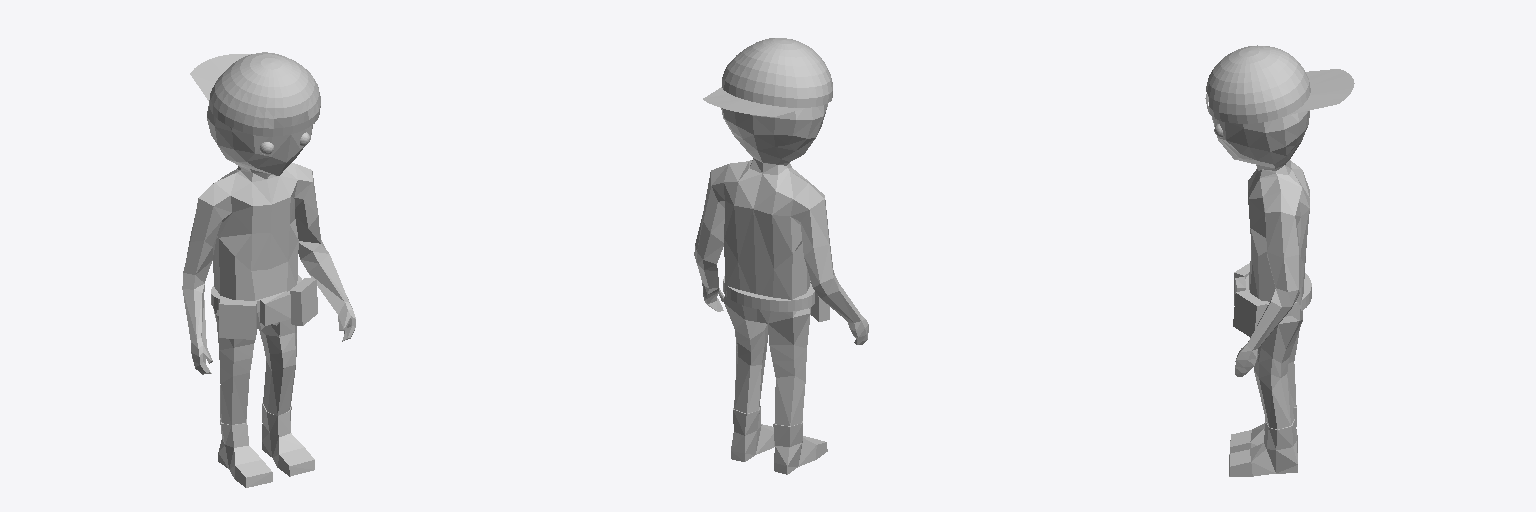
File: Main_Character_Pickup_Paint_2.obj
The picture shows the model from 3 angles: view 1: azimuth 30°, elevation 25°; view 2: azimuth 150°, elevation 25°; view 3: azimuth 270°, elevation 25°; orthographic projection.
Visible parts, largest first — view 1: Main_Character_Test.003_Main_Character_Test.004; view 2: Main_Character_Test.003_Main_Character_Test.004; view 3: Main_Character_Test.003_Main_Character_Test.004.
Part boxes in pixels (left/top/right/bottom): Main_Character_Test.003_Main_Character_Test.004: left=182, top=52, right=355, bottom=487; Main_Character_Test.003_Main_Character_Test.004: left=694, top=38, right=868, bottom=474; Main_Character_Test.003_Main_Character_Test.004: left=1205, top=45, right=1354, bottom=476.
Size of the model in its own units: 1.63 by 3.96 by 1.3.